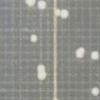white: (74, 44, 86, 60), (36, 70, 48, 82), (89, 85, 100, 98), (21, 0, 38, 8), (89, 49, 100, 61), (36, 0, 48, 11), (58, 9, 70, 20), (36, 63, 46, 74), (29, 33, 37, 43), (54, 7, 61, 17)
